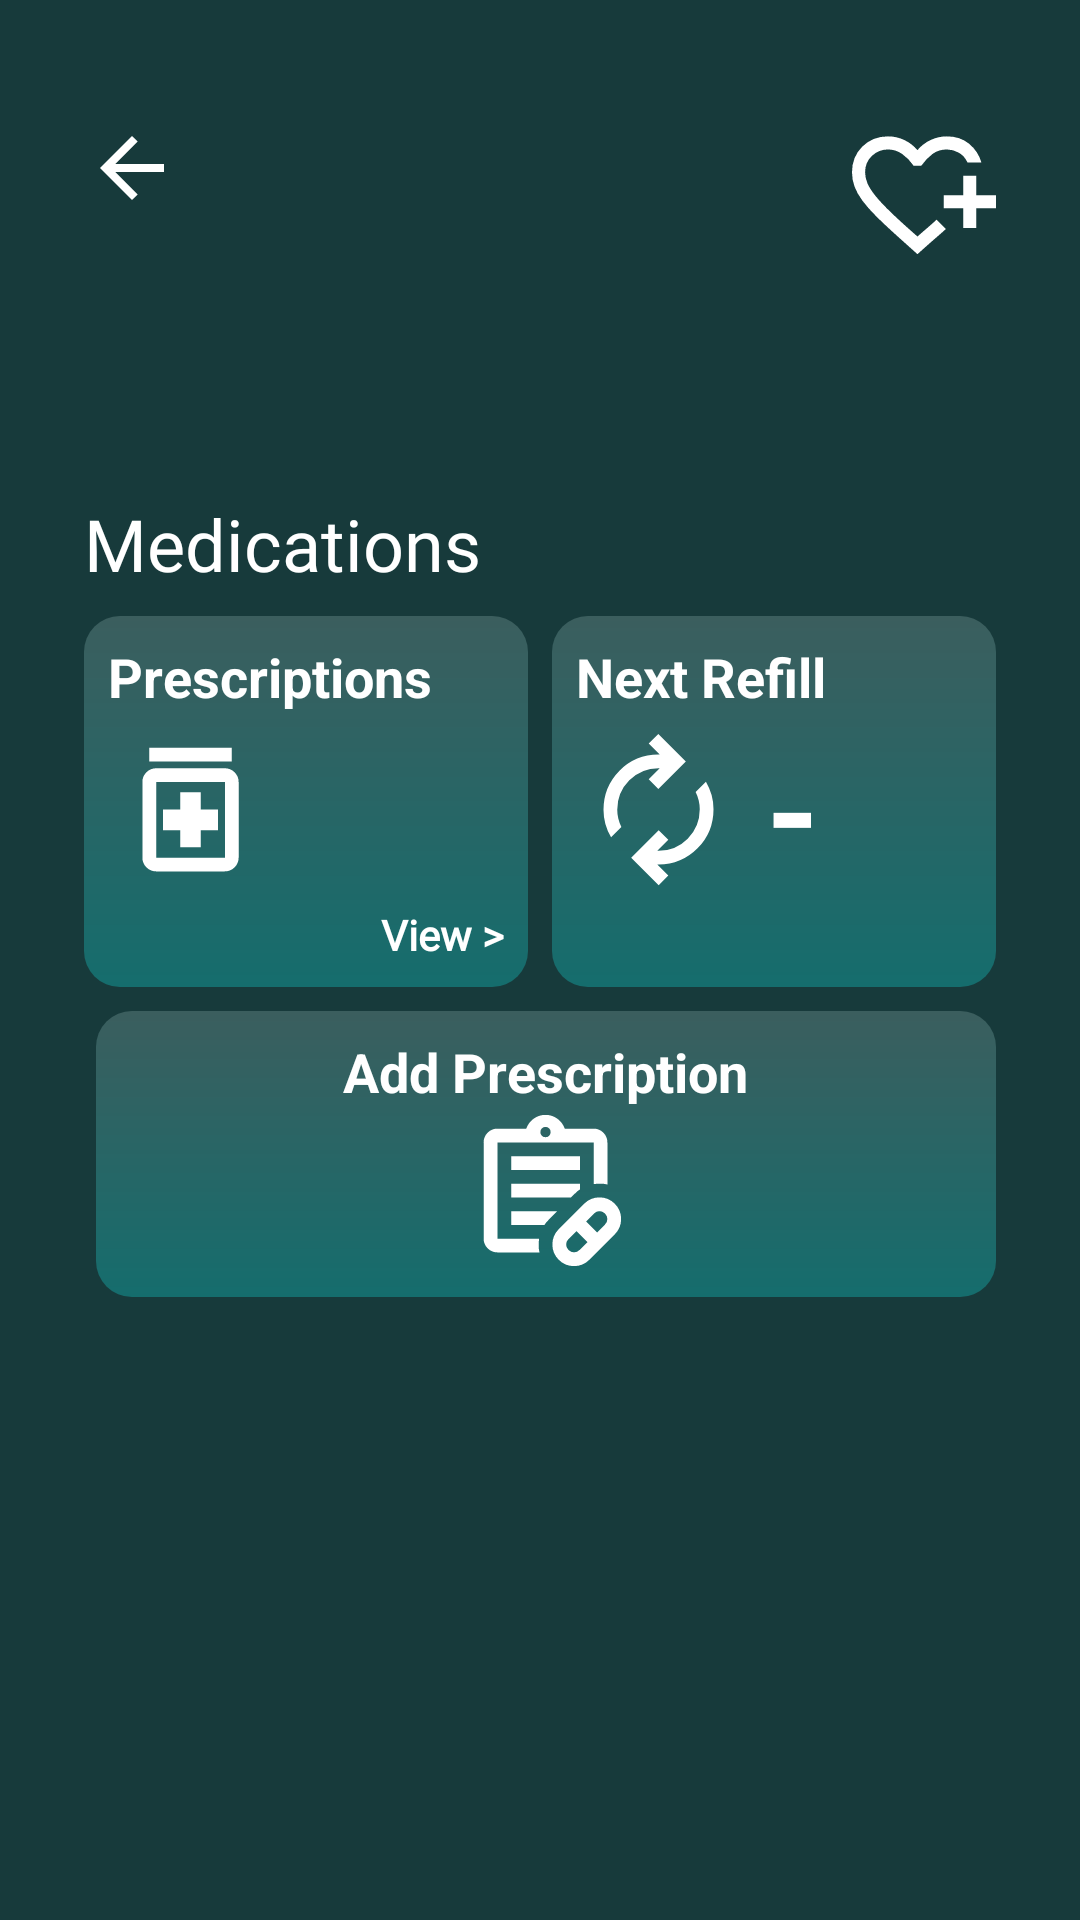

Locate icon controls on the screen. Image size 1080px×1920px, boxes as (x1, y1, x2, y2).
arrow back doctor: (100, 136, 164, 200)
autorenew doctor: (603, 734, 714, 885)
medication doctor: (142, 747, 239, 872)
